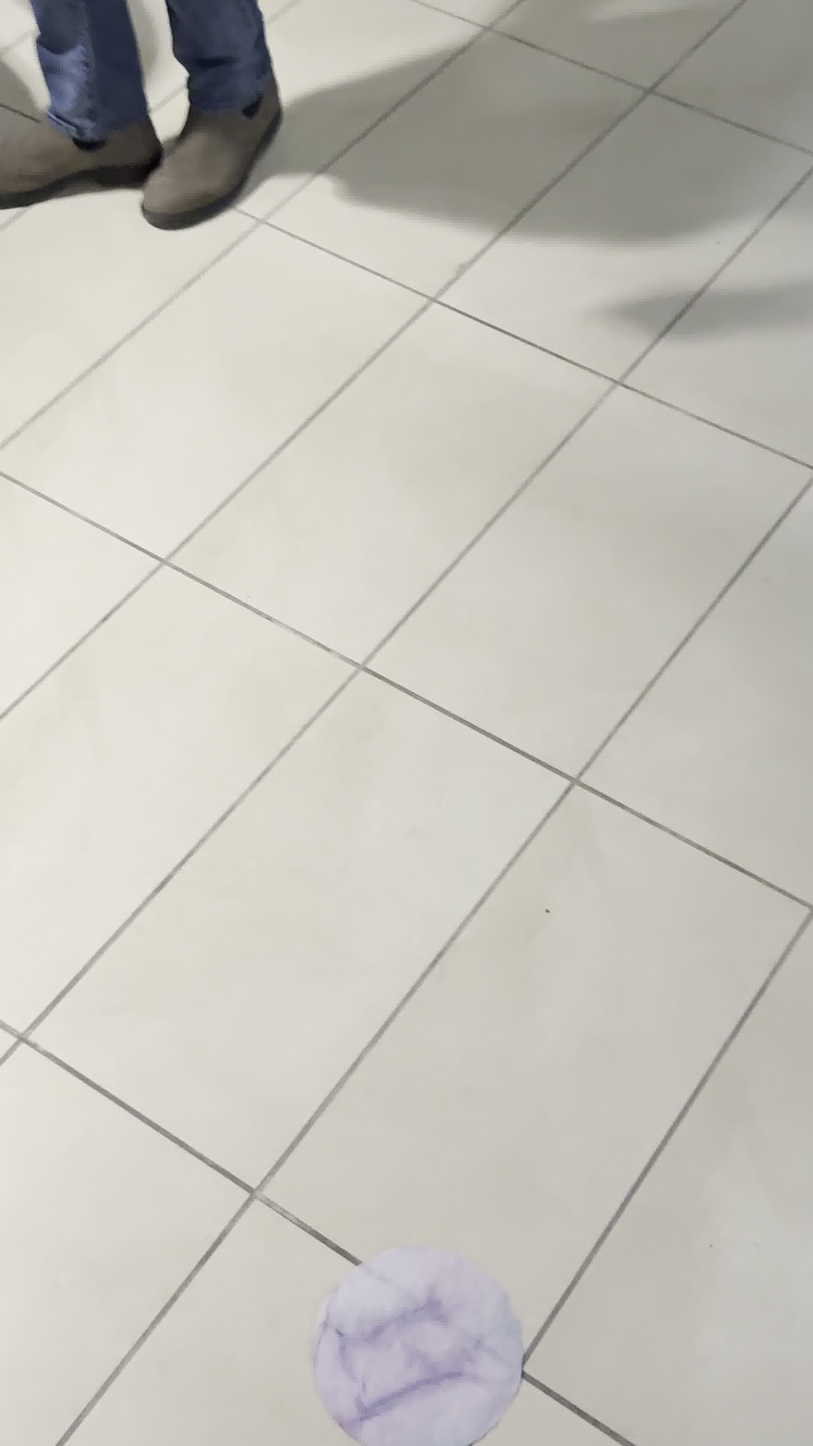Target: (312, 1244, 527, 1446)
